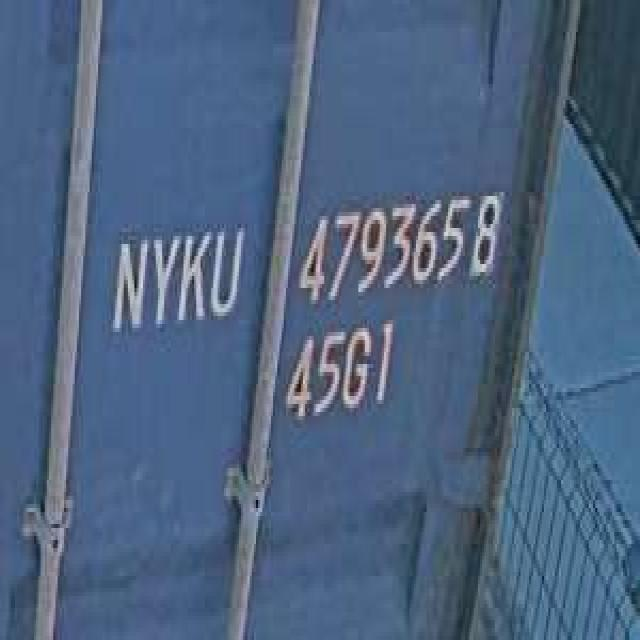dv: (469, 180, 506, 284)
owner: (107, 212, 245, 340)
serial: (292, 184, 468, 308)
size: (280, 316, 401, 428)
